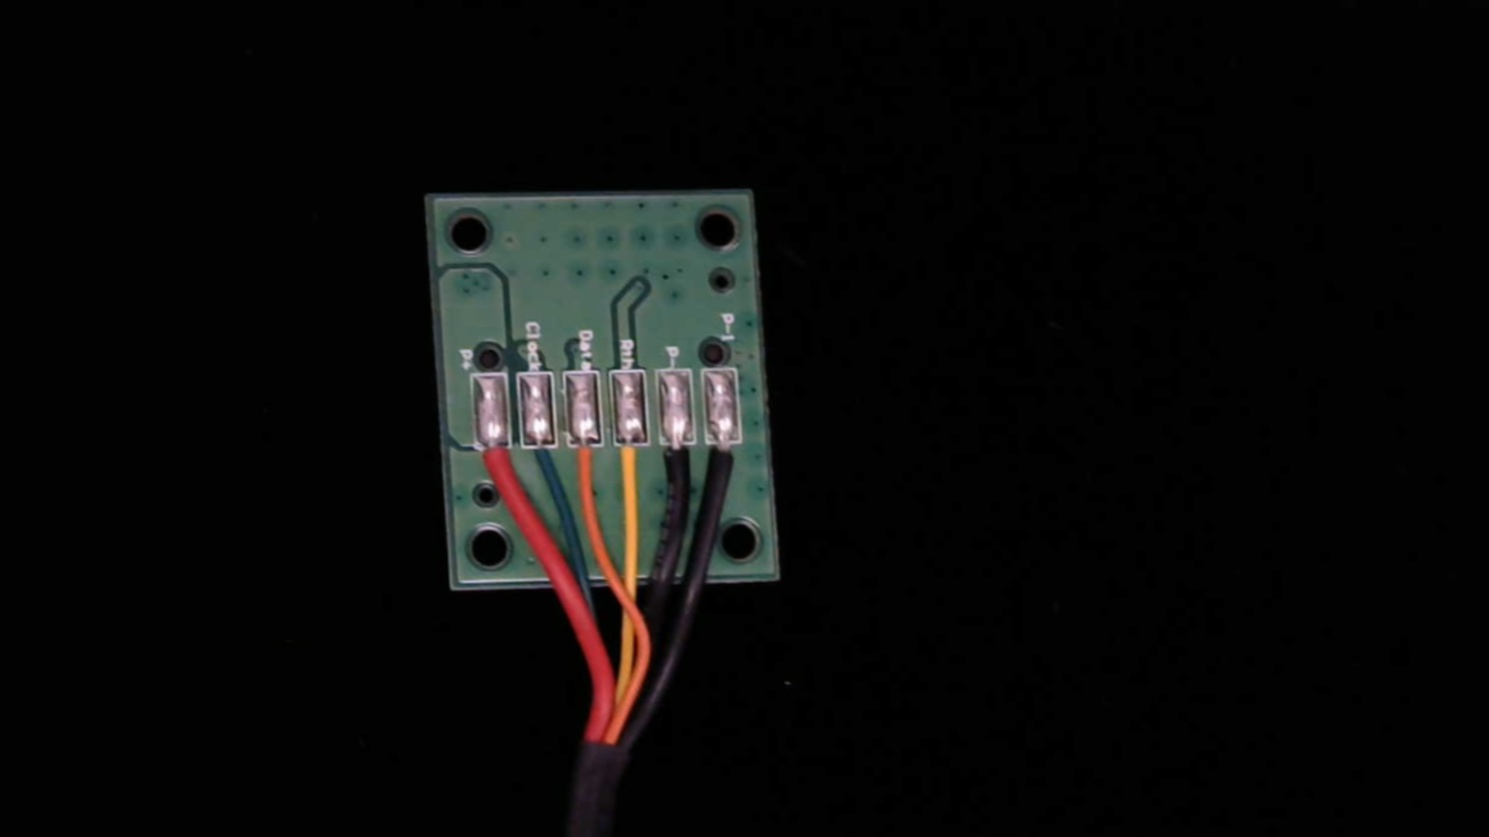Black: (658, 428, 702, 515)
Black1: (708, 421, 751, 500)
Green: (520, 426, 563, 504)
Orange: (566, 428, 608, 514)
Red: (473, 429, 517, 513)
Yellow: (614, 424, 658, 512)
